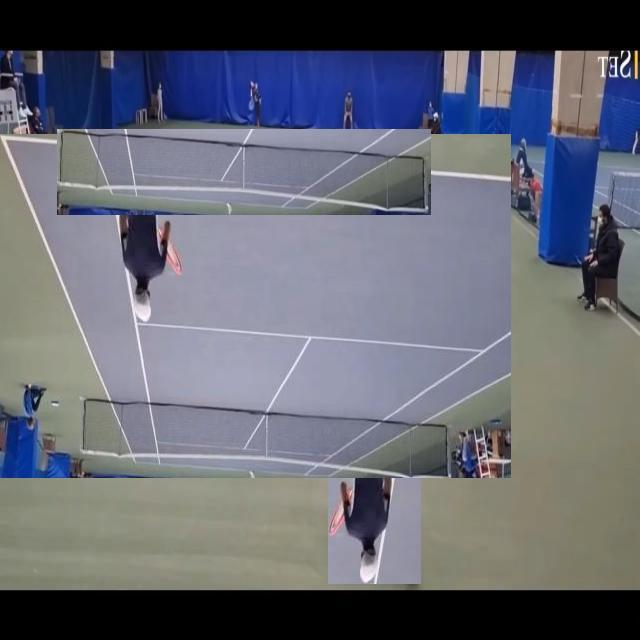court: (0, 134, 511, 478)
net: (57, 129, 431, 215)
player: (328, 289, 421, 584)
